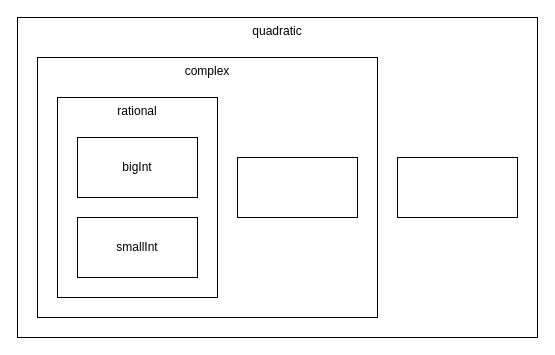
Some shapes in this 555 by 355 pixel diagram are drawn without their labels. Here are the shapes that lost their labels. From the top down, the centre of each, then its label:
At [297,187]: "irrational".
At [457,187]: "symbol".
